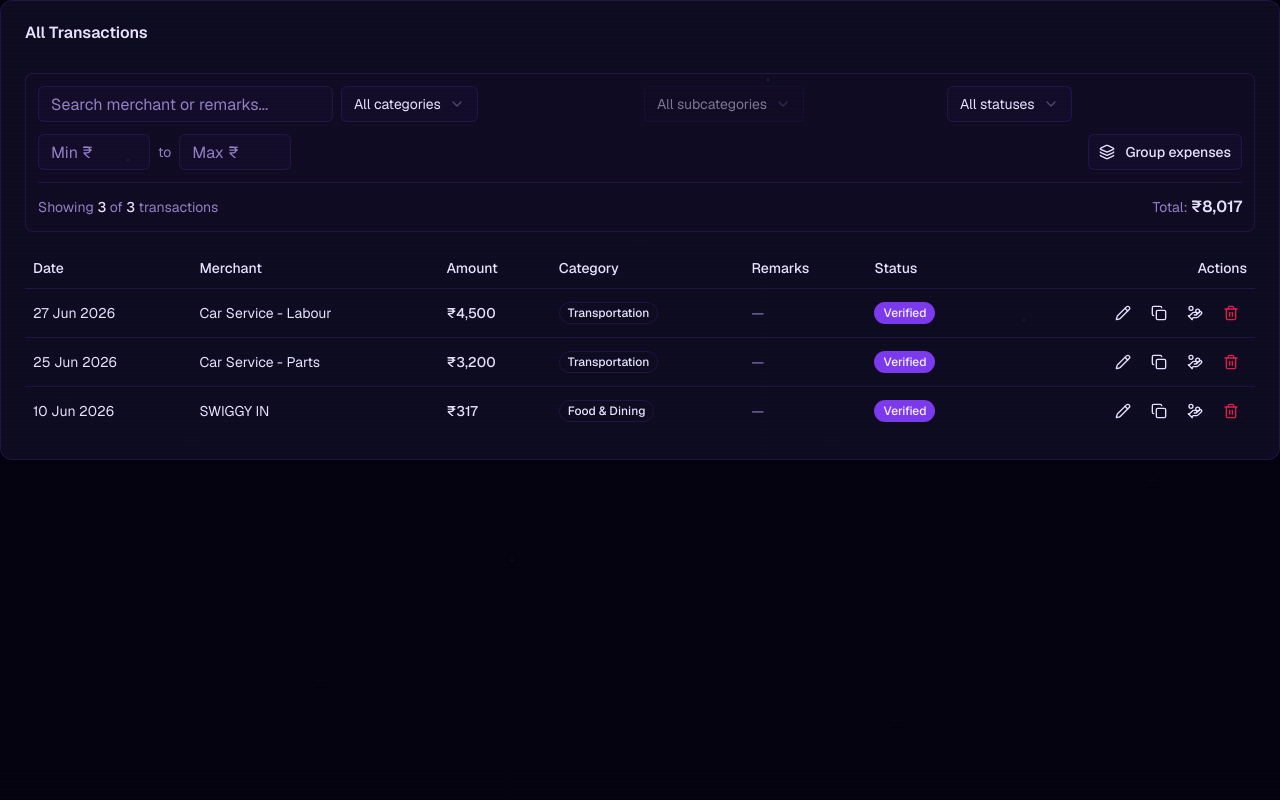
TransactionTable selection mode › shows checkboxes and a group button after entering selection mode
The width and height of the screenshot is (1280, 800).
Click the button "Group expenses".
click(1165, 152)  # box [1088,134,1242,170]
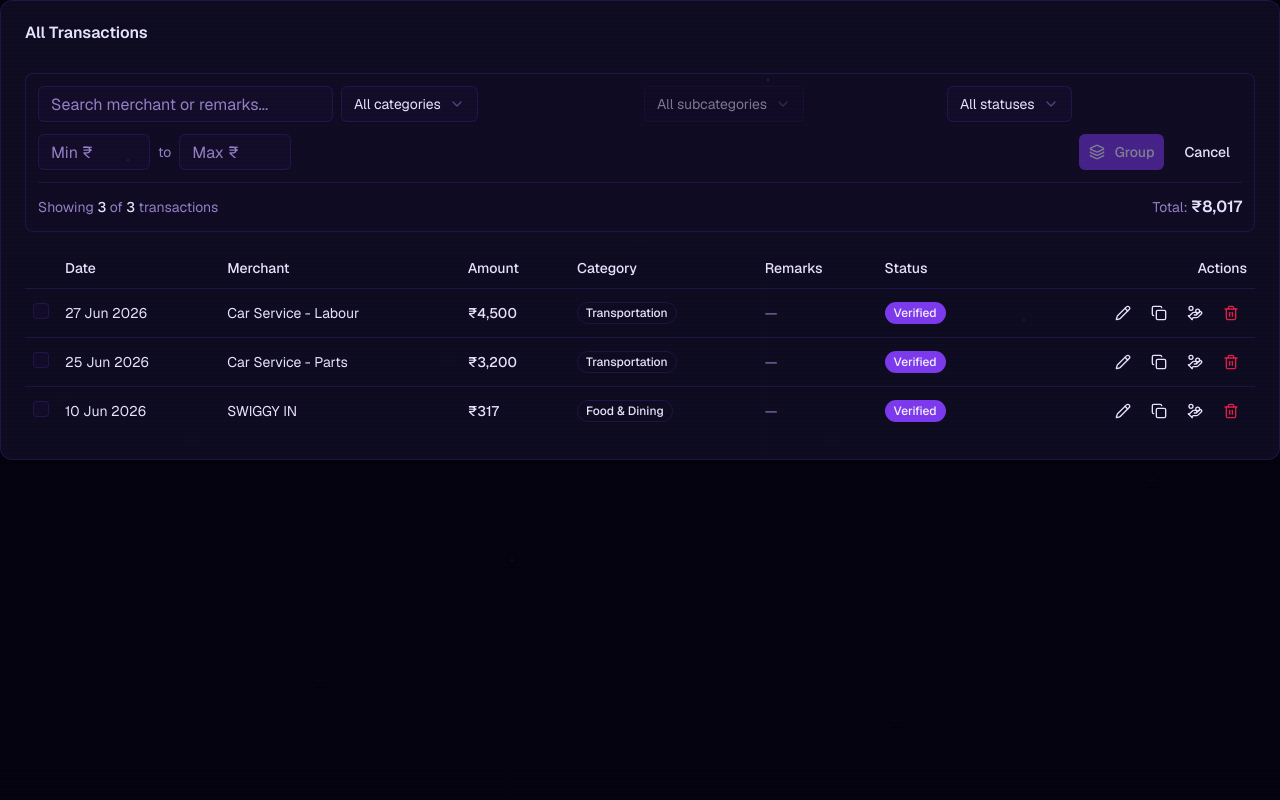
Check: the number of checkboxes is 3, box [33,302,49,318]; [33,352,49,368]; [33,400,49,416]
